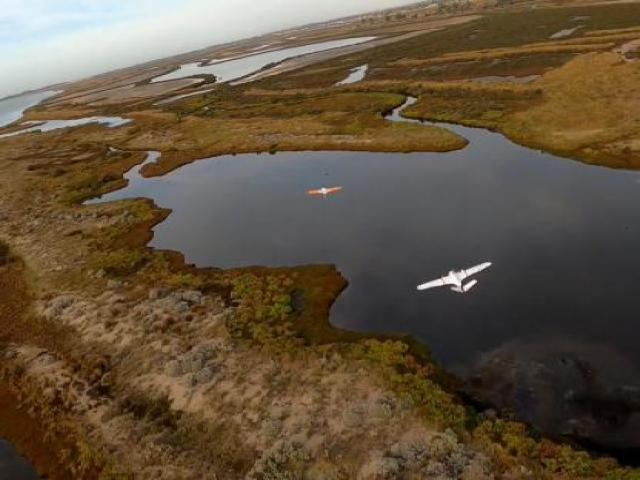uav: (414, 255, 492, 299), (305, 181, 341, 199)
